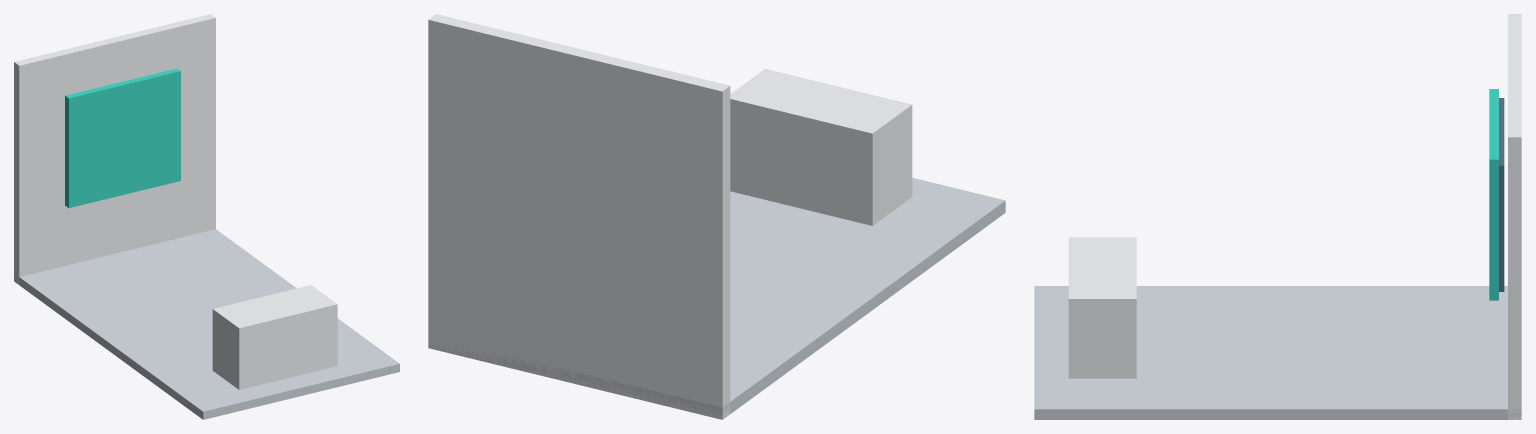
3 views of the same model, side by side, from view 1: azimuth 30°, elevation 25°; view 2: azimuth 150°, elevation 25°; view 3: azimuth 270°, elevation 25° (orthographic). The views are drawn at different scales.
Parts seen in each view (by area): view 1: Exhibition Booth Concept; view 2: Exhibition Booth Concept; view 3: Exhibition Booth Concept.
Boxes of the visible parts, box(x1,y1,x2,y2) form: Exhibition Booth Concept: box(14, 14, 399, 419); Exhibition Booth Concept: box(428, 14, 1005, 419); Exhibition Booth Concept: box(1034, 14, 1521, 419).
Bounding box in the file's own units: 3 × 3.2 × 5.
